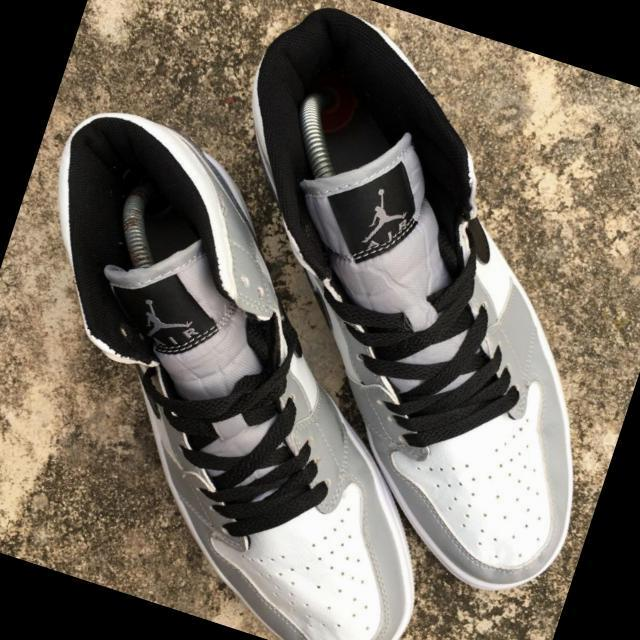nike_fake_jordan: (127, 0, 640, 609), (0, 93, 546, 640)
